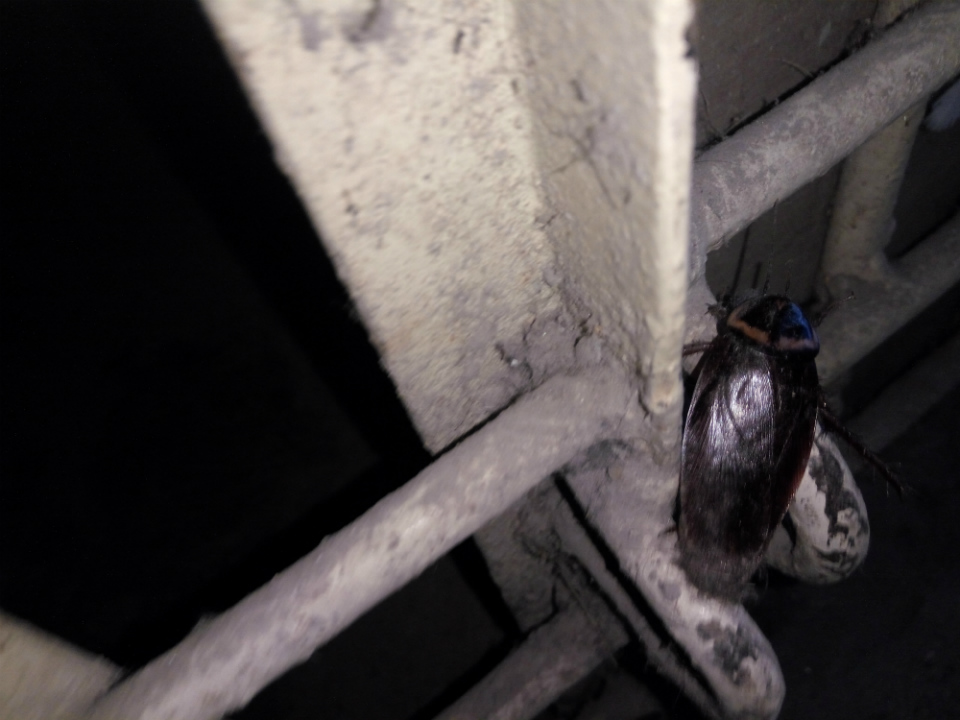cockroach: (625, 255, 916, 634)
